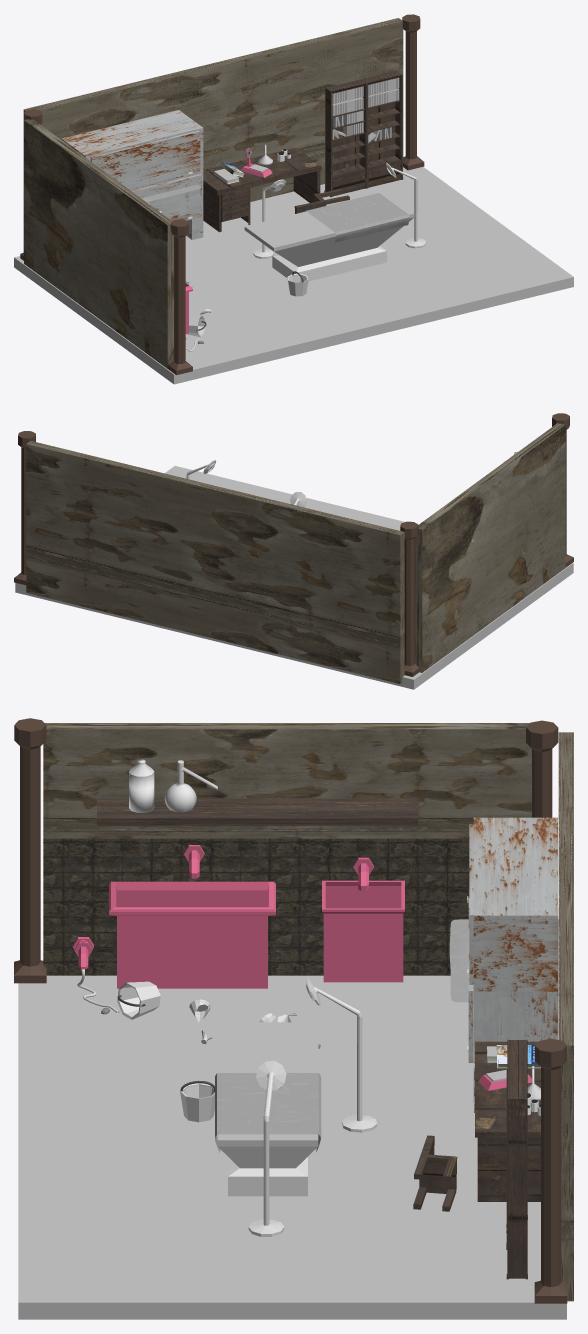
The model's file is Autopsylab.fbx.
3 views of the same model, one above another, from view 1: azimuth 30°, elevation 25°; view 2: azimuth 150°, elevation 25°; view 3: azimuth 270°, elevation 25° (orthographic). The views are drawn at different scales.
Parts seen in each view (by area): view 1: Floor, Wall.002, Wall.001, BodyCooler, Autopsytable, Desk, Cube.006, TableCloth, Pillar.001, Pillar.003, Cube.007, BodycoolerDoor (+5 smaller); view 2: Wall.002, Wall.001, Floor, Pillar.002, Pillar.003, Pillar.001; view 3: Floor, Wall.001, BodyCooler, Sink.001, Autopsytable, Sink.002, Cube.005, Wall.002, Pillar.003, Pillar.001, TableCloth, Desk (+11 smaller).
Part boxes in pixels (x1,y1,x2,y2): Floor: (14,167,573,384); Wall.002: (23,18,403,251); Wall.001: (24,119,173,368); BodyCooler: (61,110,203,239); Autopsytable: (244,192,414,281); Desk: (203,148,321,232); Cube.006: (326,70,401,196); TableCloth: (305,193,409,242); Pillar.001: (167,219,192,375); Pillar.003: (402,14,424,170); Cube.007: (332,100,400,176); BodycoolerDoor: (131,174,201,220); Wall.002: (26,441,404,683); Wall.001: (415,423,565,672); Floor: (15,466,573,689); Pillar.002: (400,521,419,676); Pillar.003: (14,431,35,585); Pillar.001: (552,413,573,567); Floor: (18,975,566,1319); Wall.001: (43,723,531,975); BodyCooler: (469,817,557,1103); Sink.001: (109,881,275,988); Autopsytable: (217,1022,318,1196); Sink.002: (322,880,404,982); Cube.005: (97,798,417,825); Wall.002: (558,732,573,1301); Pillar.003: (534,1038,567,1303); Pillar.001: (14,718,46,983); TableCloth: (215,1073,321,1152); Desk: (474,1041,540,1201).
Size of the model in its own units: 1977 by 738 by 1396.
